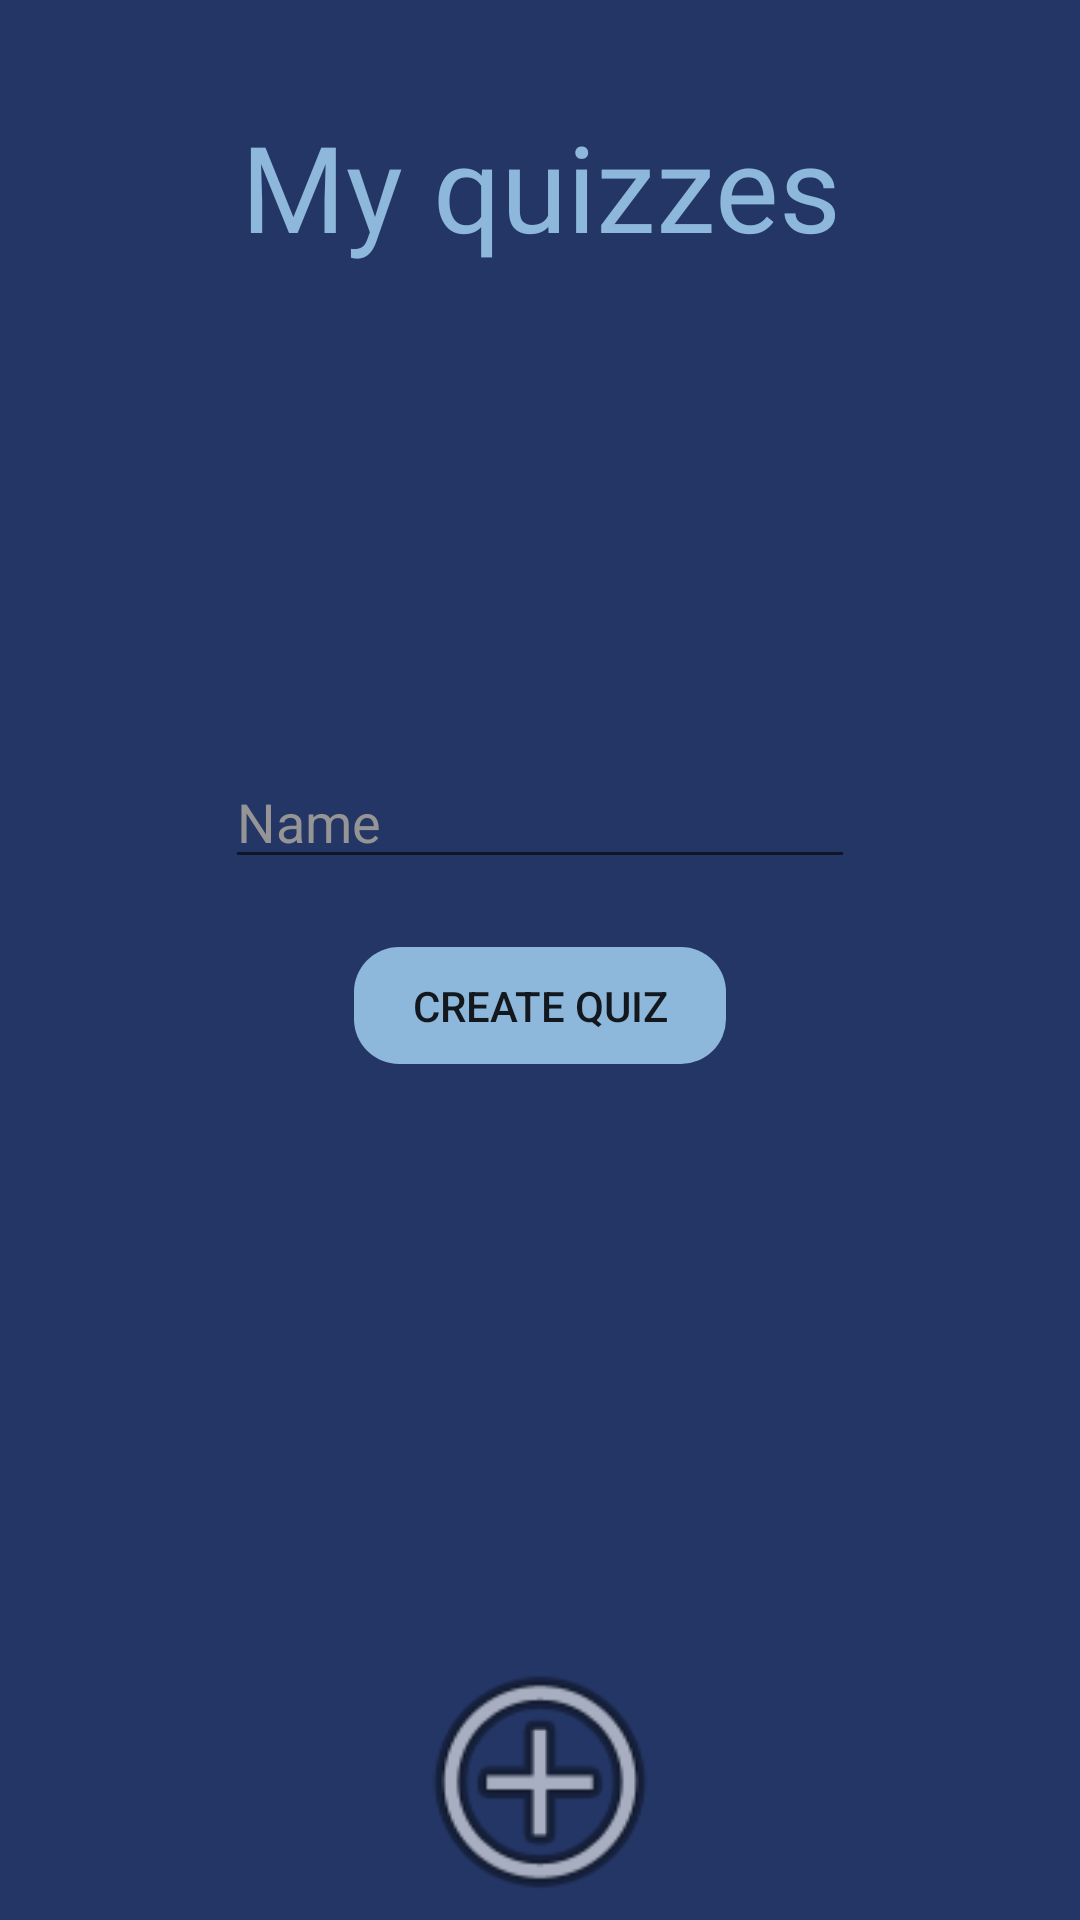

Icons on this 1080 × 1920 Android screen, each with its box as (x1, y1, x2, y2):
add: (436, 1677, 644, 1887)
